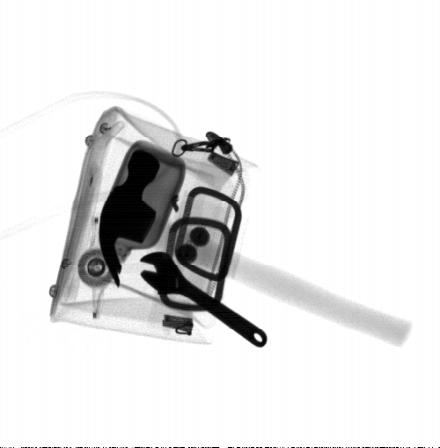Hammer: (97, 149, 414, 348)
Wrench: (139, 250, 266, 347)
